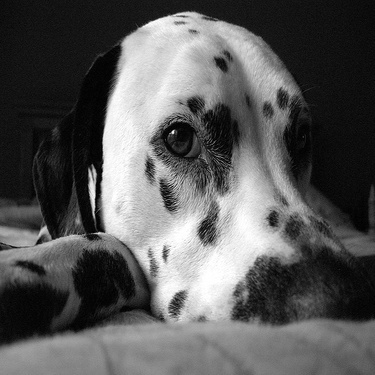dog: (1, 5, 373, 352)
